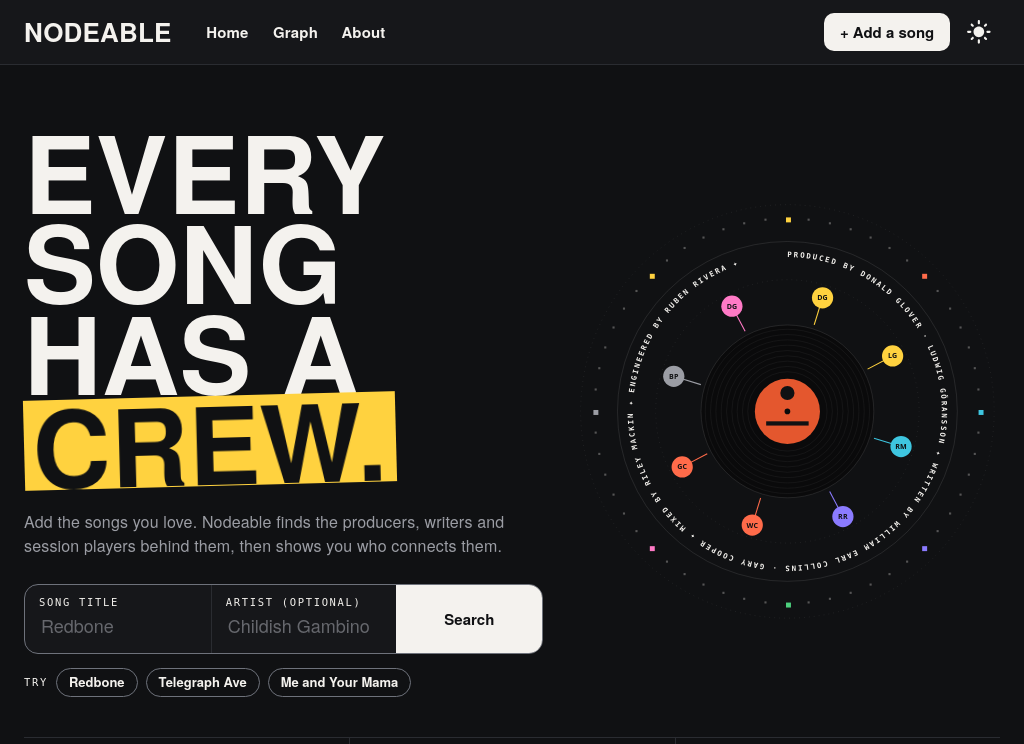
Test case: search › FR_SEARCH_01 does not send a title shorter than two characters and says why
This screenshot has width=1024, height=744.
Type "a" into the field labelled "Song title" at (118, 627), box [39,610,197,643]
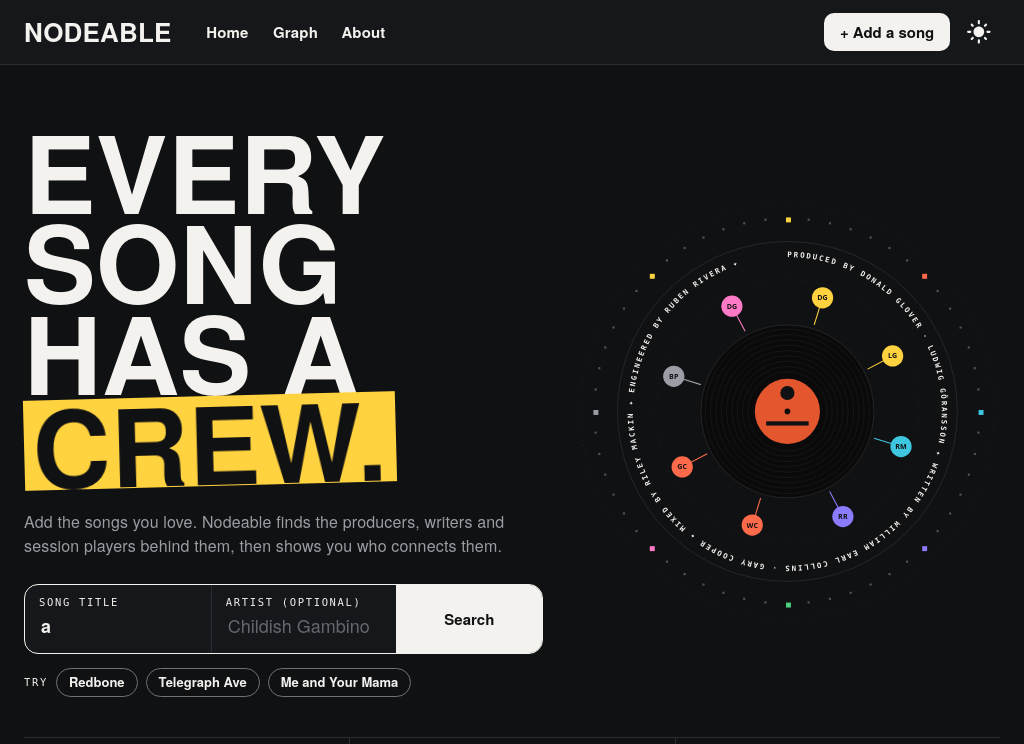
Click the button "Search" at (469, 619), box [396,585,542,653]
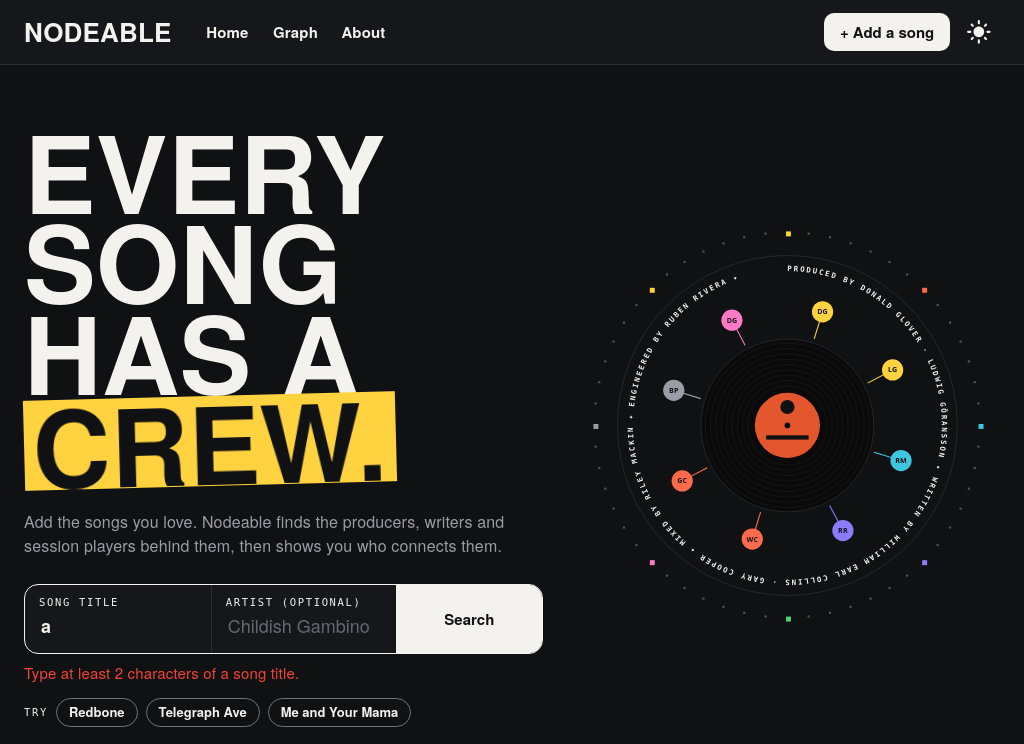
Check: the text "Type at least 2 characters of a song title." is shown, box [24,662,299,683]
